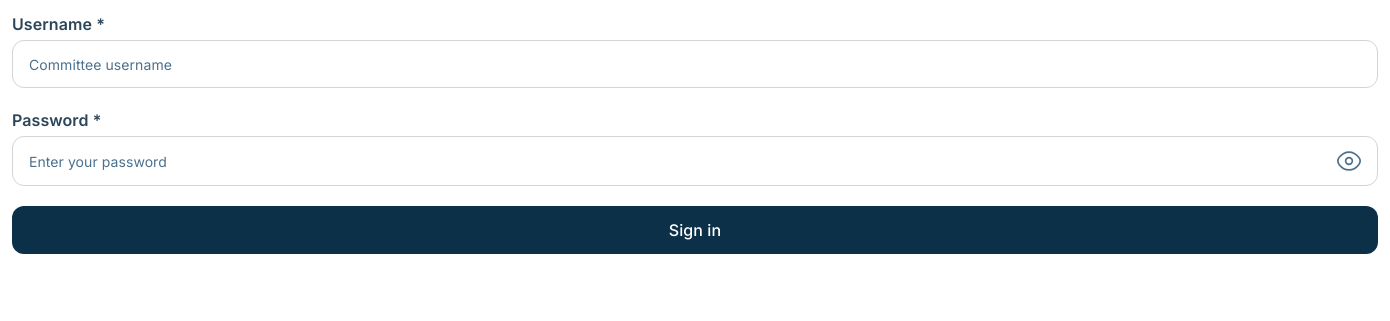
it: AdminSignInForm (A0) › validates empty fields before calling the server
Click the button "Sign in". click: (695, 230)
box: [12, 206, 1378, 254]
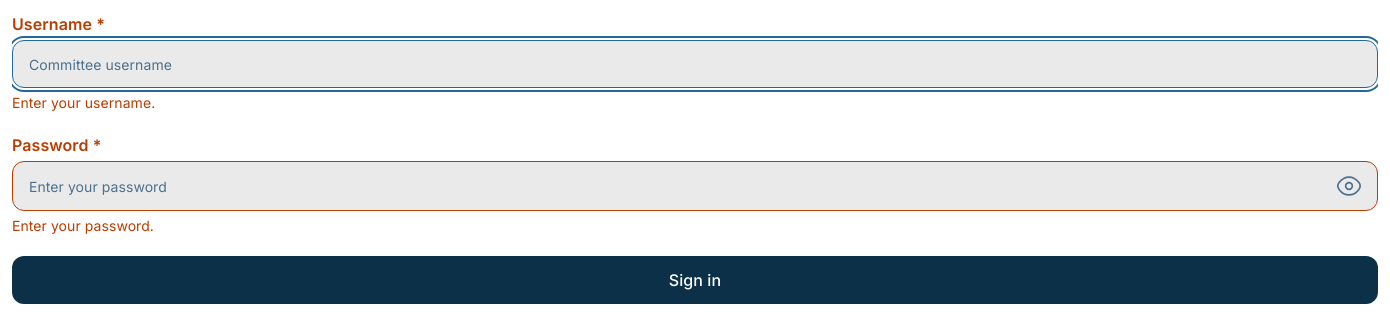
Expected: the text "Enter your username." is shown, [12, 94, 155, 111]
Expected: the text "Enter your password." is shown, [12, 217, 154, 234]
